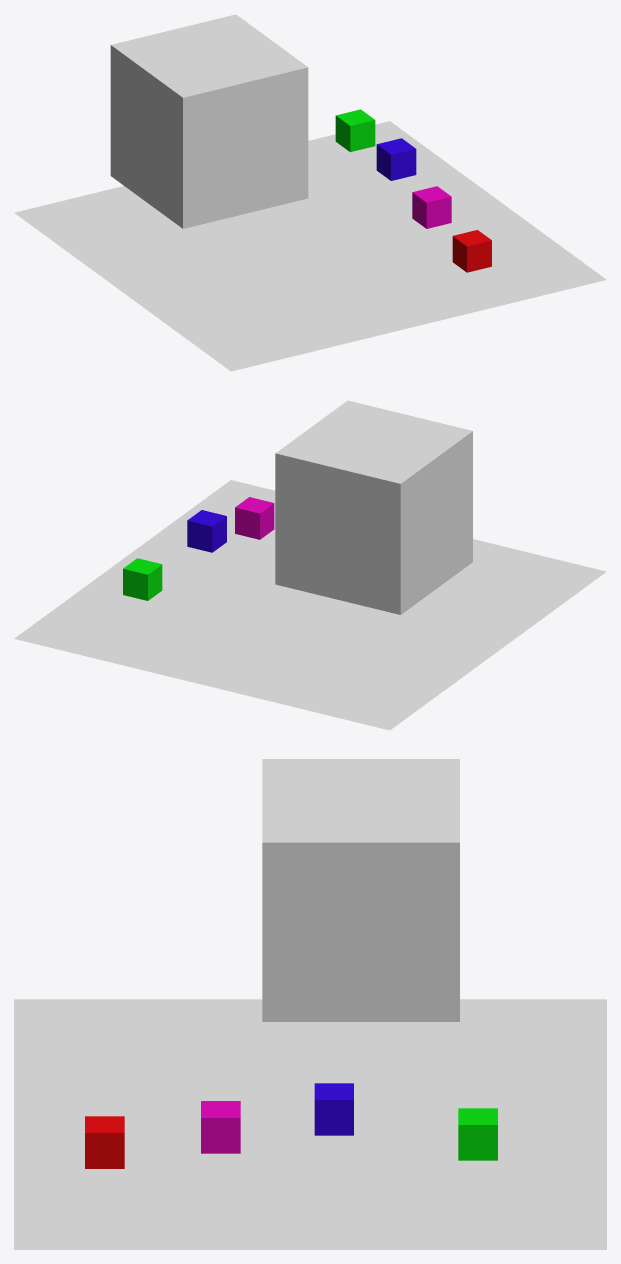
File: cena.gltf
The picture shows the model from 3 angles, top to bottom: view 1: azimuth 30°, elevation 25°; view 2: azimuth 150°, elevation 25°; view 3: azimuth 270°, elevation 25°; orthographic projection. The views are drawn at different scales.
Parts seen in each view (by area): view 1: Plane, Cubo, Botao.2, Botao.3, Botao.4, Botao.1; view 2: Plane, Cubo, Botao.3, Botao.2, Botao.4; view 3: Plane, Cubo, Botao.4, Botao.3, Botao.2, Botao.1.
Part boxes in pixels (<box>): Plane: <box>14,121,606,371</box>; Cubo: <box>110,14,308,228</box>; Botao.2: <box>335,109,375,152</box>; Botao.3: <box>376,138,416,180</box>; Botao.4: <box>412,186,451,228</box>; Botao.1: <box>452,230,491,272</box>; Plane: <box>14,480,606,730</box>; Cubo: <box>275,400,472,614</box>; Botao.3: <box>187,510,226,552</box>; Botao.2: <box>123,558,162,600</box>; Botao.4: <box>235,497,274,539</box>; Plane: <box>14,999,606,1249</box>; Cubo: <box>262,759,459,1021</box>; Botao.4: <box>201,1101,240,1153</box>; Botao.3: <box>314,1083,353,1135</box>; Botao.2: <box>458,1108,497,1160</box>; Botao.1: <box>85,1116,124,1168</box>.
Size of the model in its own units: 6 by 3 by 6.
